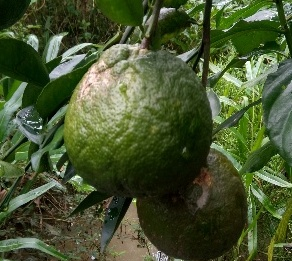Cam: (59, 36, 215, 200)
